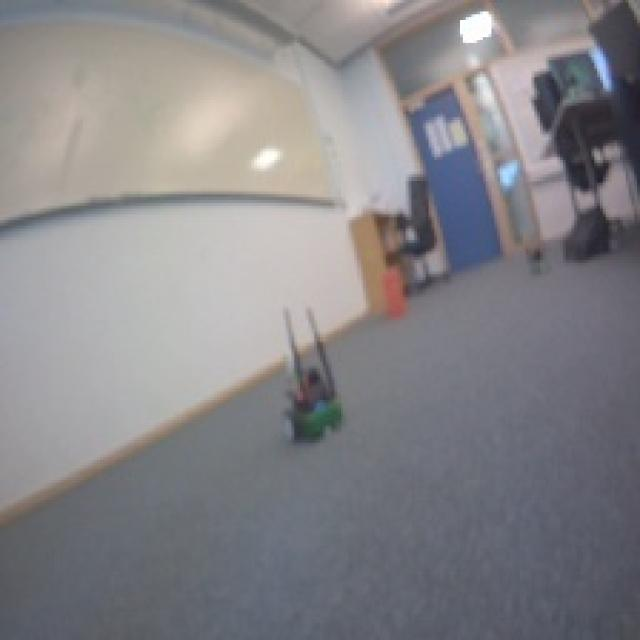robot: (275, 371, 346, 446), (522, 240, 553, 278)
target: (377, 264, 413, 320)
